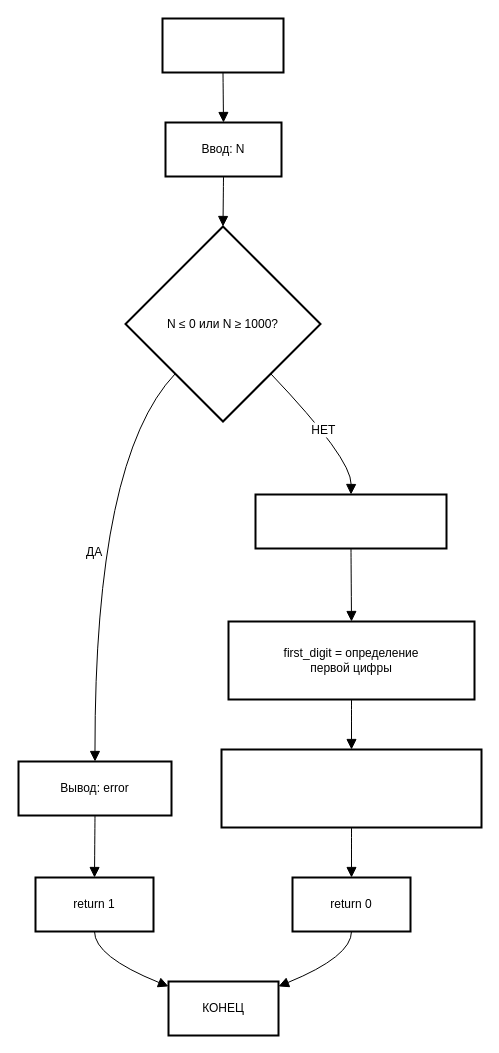
This 499x1053 diagram has some shape labels left out. The centre of each missing label's shape, as x and y in pixels:
"last_digit = N % 10" goes at point 350,521.
"Вывод: first_digit, last_digit" goes at point 351,788.
"НАЧАЛО" goes at point 222,45.
